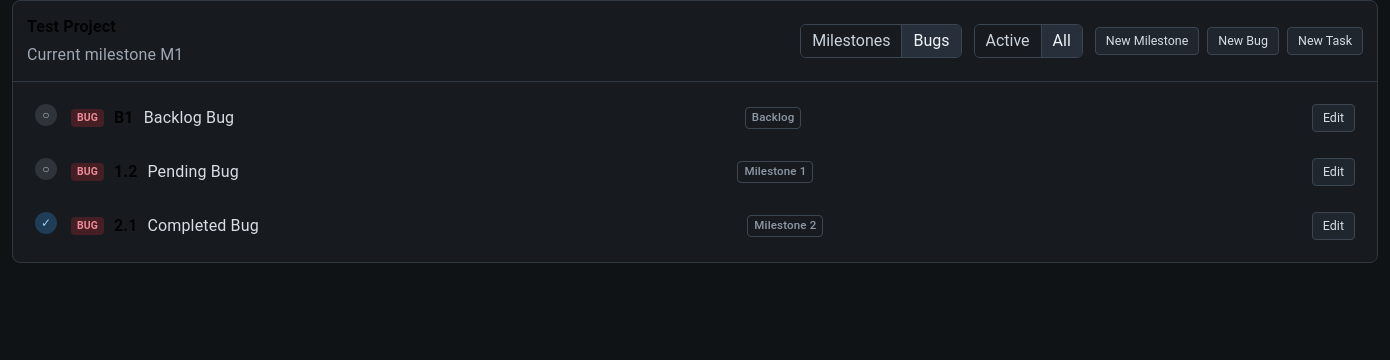
Test: TaskflowView Refactored Filters › restores taskflow filters and expanded milestones
This screenshot has width=1390, height=360.
Check: the text "Completed Bug" is shown, box [148,214,259,238]
Click the button "Milestones". click: (852, 41)
box: [801,25,902,57]
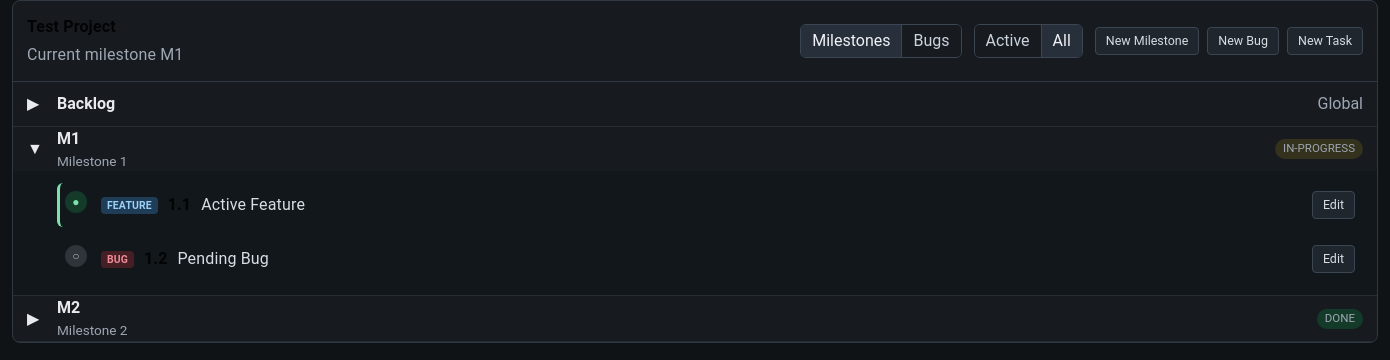
Check: the text "Active Feature" is shown, box [201,193,305,217]
